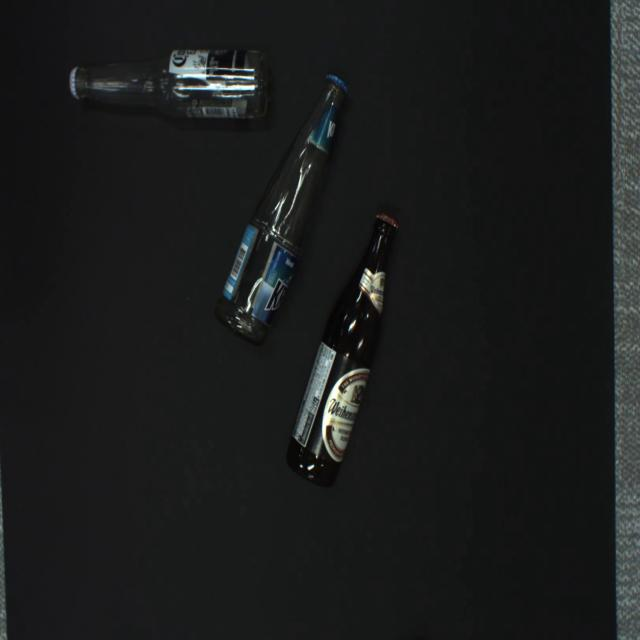beer-bottle: (214, 74, 348, 347), (286, 213, 399, 486), (69, 49, 269, 119)
